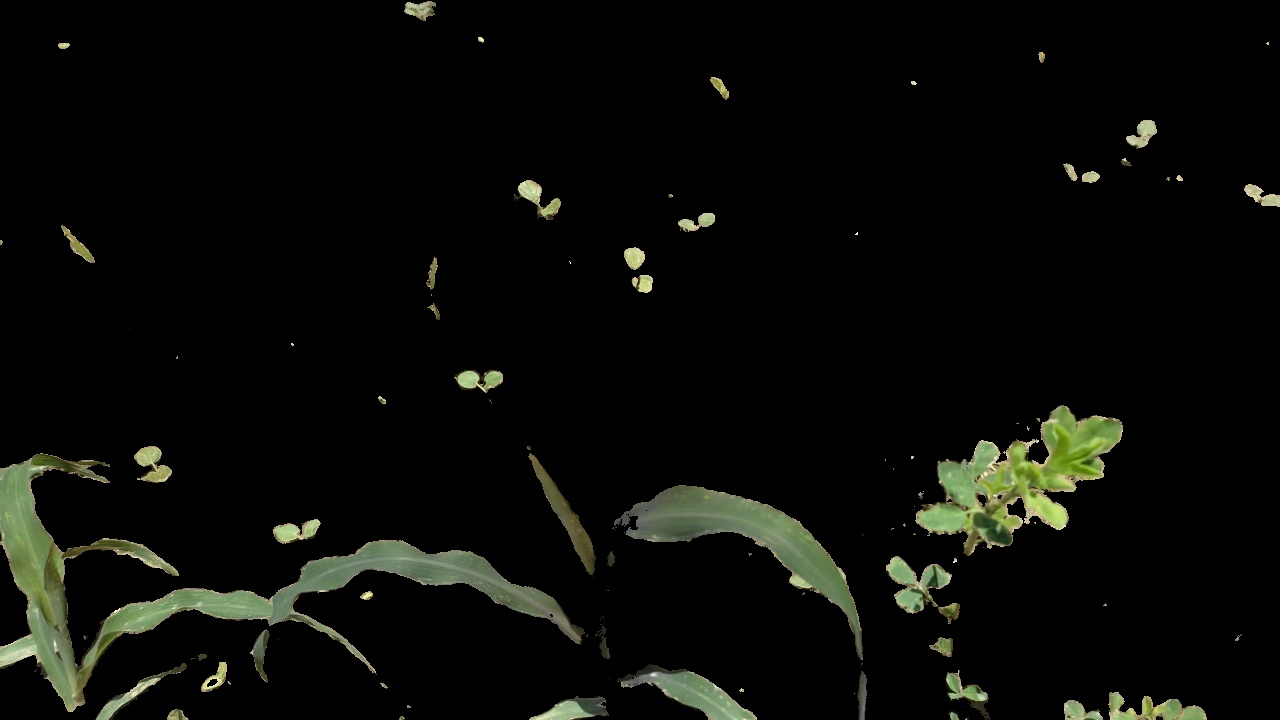crop: (244, 430, 879, 720), (1, 424, 391, 717)
weed: (940, 412, 1162, 558), (883, 546, 1015, 720), (1055, 681, 1215, 720), (618, 235, 678, 303), (509, 174, 565, 224), (1122, 103, 1162, 157), (135, 445, 176, 494), (260, 516, 326, 542), (1246, 177, 1280, 226), (1062, 154, 1106, 191), (449, 366, 510, 391), (676, 207, 714, 236)
